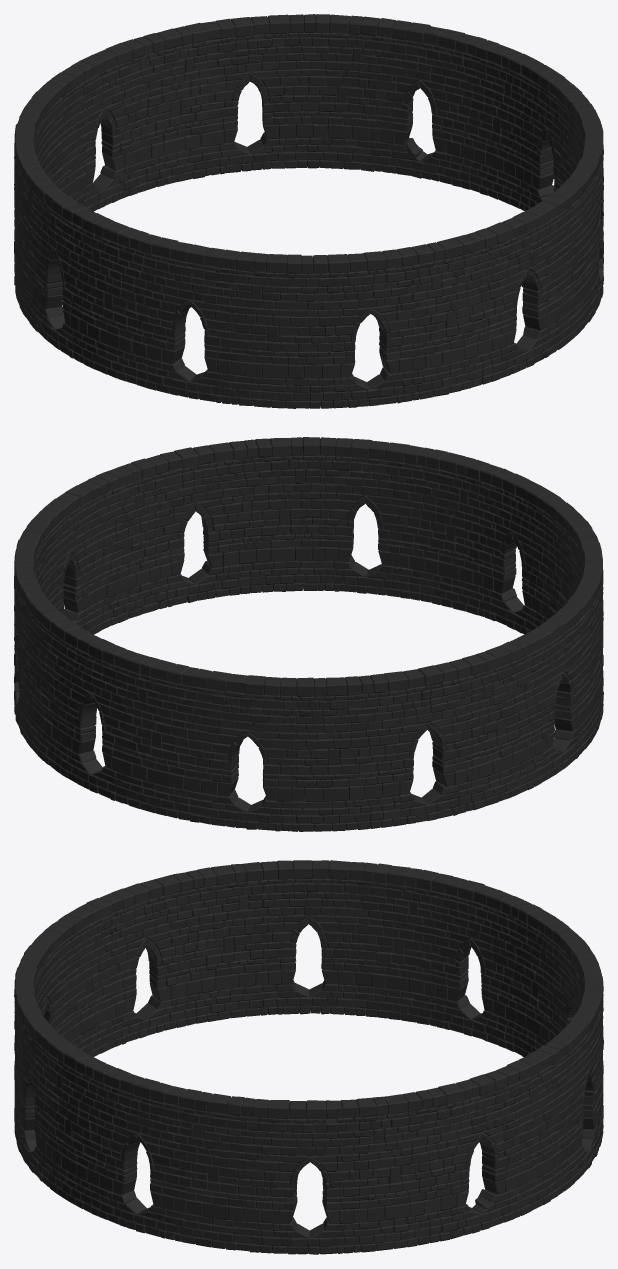
File: ArenaWall.fbx
The picture shows the model from 3 angles, top to bottom: view 1: azimuth 30°, elevation 25°; view 2: azimuth 150°, elevation 25°; view 3: azimuth 270°, elevation 25°; orthographic projection.
Parts seen in each view (by area): view 1: Wall; view 2: Wall; view 3: Wall.
Part boxes in pixels (x1=…): Wall: x1=14, y1=14, x2=603, y2=408; Wall: x1=14, y1=437, x2=603, y2=831; Wall: x1=14, y1=860, x2=603, y2=1254.
Size of the model in its own units: 9892 by 2725 by 9897.
Materials: 1 (1 with a texture image).
